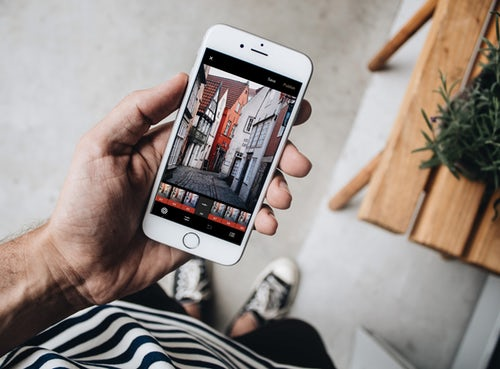phone: (146, 22, 310, 264)
